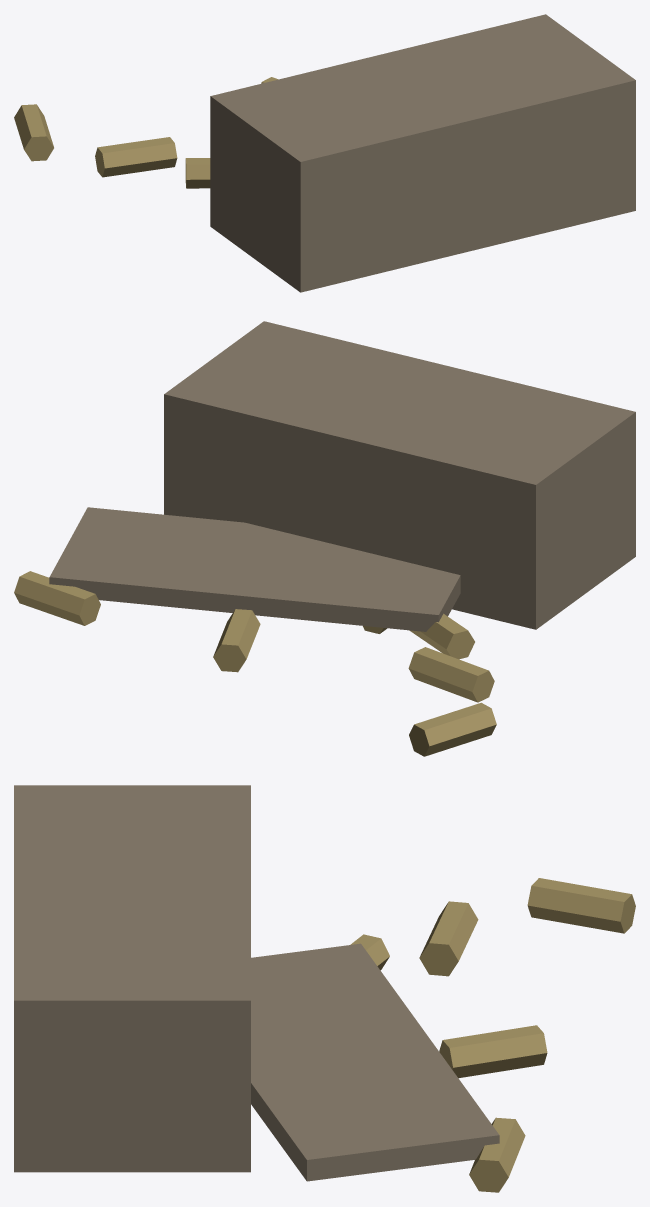
File: ammo_crate_burst.glb
3 renders of one model, top to bottom at view 1: azimuth 30°, elevation 25°; view 2: azimuth 150°, elevation 25°; view 3: azimuth 270°, elevation 25°, orthographic. The views are drawn at different scales.
Visible parts, largest first — view 1: ammo_crate_burst; view 2: ammo_crate_burst; view 3: ammo_crate_burst.
Part boxes in pixels (bbox=[...]): ammo_crate_burst: bbox=[14, 14, 635, 292]; ammo_crate_burst: bbox=[14, 321, 635, 756]; ammo_crate_burst: bbox=[14, 785, 635, 1192].
Bounding box in the file's own units: 1.18 × 0.32 × 1.05.
